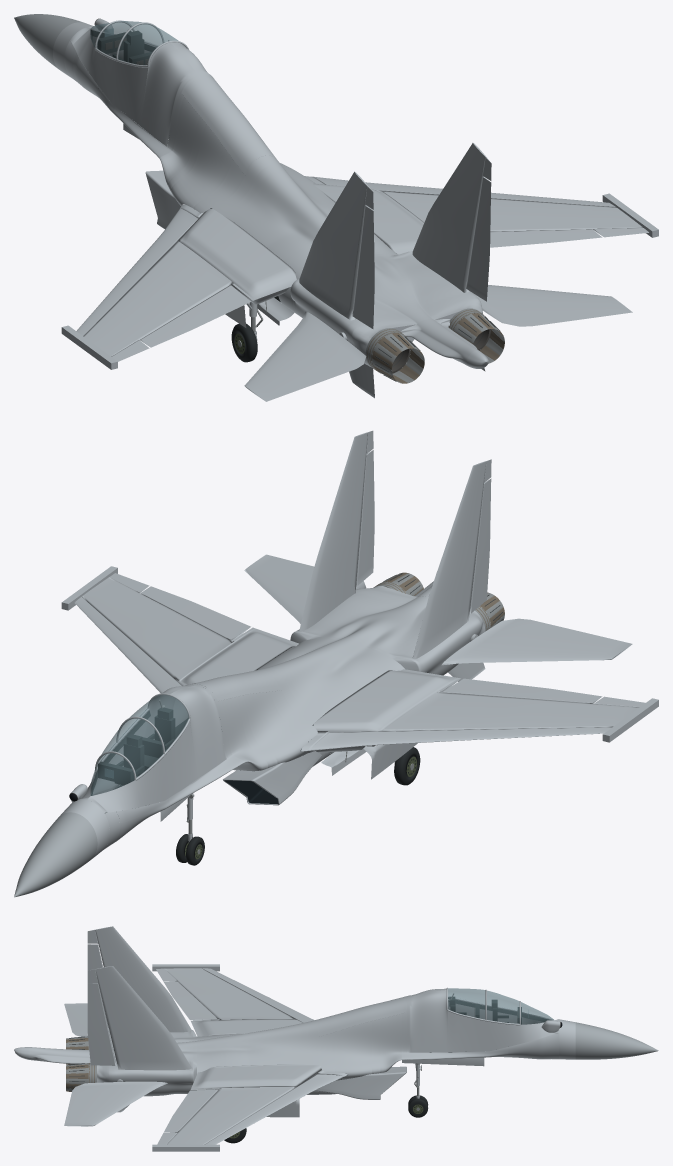
Rendered from j16-white.glb.
3 views of the same model, one above another, from view 1: azimuth 30°, elevation 25°; view 2: azimuth 150°, elevation 25°; view 3: azimuth 270°, elevation 25° (orthographic). The views are drawn at different scales.
Visible parts, largest first — view 1: J16_fixed_fuselage_mid, J16_fixed_fuselage_tail, wing_fixed_L, J16_double_cockpit_shoulders, fin_fixed_R, fin_fixed_L, wing_body_blend_L, stabilator_skin_L, wing_fixed_R, stabilator_skin_R, dorsal_airbrake_skin, wing_body_blend_R (+16 smaller); view 2: J16_fixed_fuselage_mid, J16_fixed_fuselage_tail, J16_double_cockpit_shoulders, wing_fixed_L, wing_fixed_R, fin_fixed_R, fin_fixed_L, stabilator_skin_L, wing_body_blend_L, J16_radome_no_nose_pitot, slat_skin_L_0, wing_body_blend_R (+16 smaller); view 3: J16_fixed_fuselage_mid, J16_double_cockpit_shoulders, fin_fixed_R, fin_fixed_L, J16_fixed_fuselage_tail, wing_fixed_R, wing_fixed_L, stabilator_skin_R, wing_body_blend_R, J16_radome_no_nose_pitot, J16_fixed_fuselage_nose, rudder_skin_R (+18 smaller).
Boxes of the visible parts, bbox=[...] form: J16_fixed_fuselage_mid: bbox=[155, 72, 398, 313]; J16_fixed_fuselage_tail: bbox=[290, 251, 482, 366]; wing_fixed_L: bbox=[83, 241, 232, 356]; J16_double_cockpit_shoulders: bbox=[70, 26, 208, 146]; fin_fixed_R: bbox=[412, 143, 491, 292]; fin_fixed_L: bbox=[299, 171, 373, 320]; wing_body_blend_L: bbox=[177, 209, 296, 304]; stabilator_skin_L: bbox=[244, 311, 366, 401]; wing_fixed_R: bbox=[383, 191, 642, 231]; stabilator_skin_R: bbox=[471, 285, 632, 326]; dorsal_airbrake_skin: bbox=[181, 75, 276, 175]; wing_body_blend_R: bbox=[313, 183, 424, 254]; J16_fixed_fuselage_mid: bbox=[173, 636, 404, 771]; J16_fixed_fuselage_tail: bbox=[290, 581, 485, 675]; J16_double_cockpit_shoulders: bbox=[78, 684, 226, 812]; wing_fixed_L: bbox=[382, 692, 639, 731]; wing_fixed_R: bbox=[82, 577, 232, 681]; fin_fixed_R: bbox=[299, 430, 373, 630]; fin_fixed_L: bbox=[412, 459, 491, 658]; stabilator_skin_L: bbox=[441, 618, 632, 665]; wing_body_blend_L: bbox=[313, 669, 458, 752]; J16_radome_no_nose_pitot: bbox=[14, 812, 97, 897]; slat_skin_L_0: bbox=[310, 727, 611, 750]; wing_body_blend_R: bbox=[177, 628, 298, 685]; J16_fixed_fuselage_mid: bbox=[197, 995, 409, 1094]; J16_double_cockpit_shoulders: bbox=[409, 988, 559, 1052]; fin_fixed_R: bbox=[87, 966, 191, 1070]; fin_fixed_L: bbox=[87, 926, 191, 1032]; J16_fixed_fuselage_tail: bbox=[28, 1030, 196, 1096]; wing_fixed_R: bbox=[167, 1087, 295, 1144]; wing_fixed_L: bbox=[164, 968, 294, 1019]; stabilator_skin_R: bbox=[64, 1081, 167, 1126]; wing_body_blend_R: bbox=[191, 1064, 321, 1089]; J16_radome_no_nose_pitot: bbox=[575, 1022, 658, 1059]; J16_fixed_fuselage_nose: bbox=[409, 1033, 559, 1059]; rudder_skin_R: bbox=[87, 983, 116, 1065].
Size of the model in its own units: 14.7 by 6.36 by 21.95.
